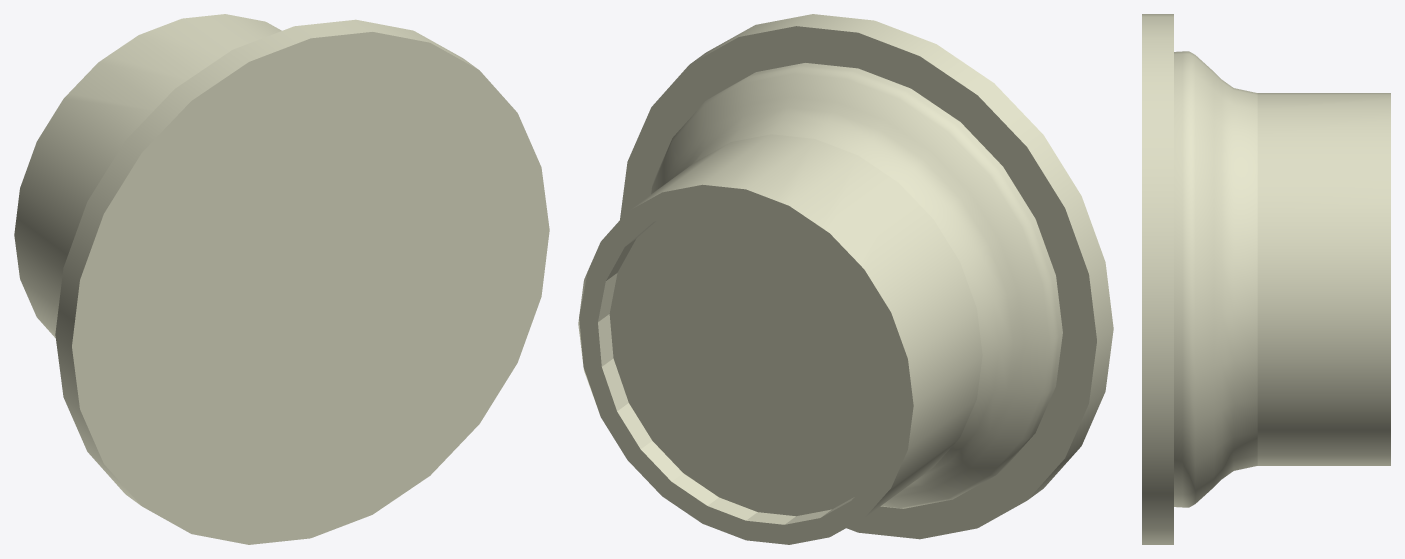
Rendered from sensor.dae.
The picture shows the model from 3 angles, left to right: view 1: azimuth 30°, elevation 25°; view 2: azimuth 150°, elevation 25°; view 3: azimuth 270°, elevation 25°; orthographic projection. The views are drawn at different scales.
Parts seen in each view (by area): view 1: SketchUp (×2); view 2: SketchUp (×3); view 3: SketchUp (×2).
Part boxes in pixels (x1,y1,x2,y2): SketchUp (×2): (14, 14, 549, 544); SketchUp (×3): (578, 14, 1113, 544); SketchUp (×2): (1142, 14, 1390, 544).
Bounding box in the file's own units: 2 × 0.9339 × 2.
